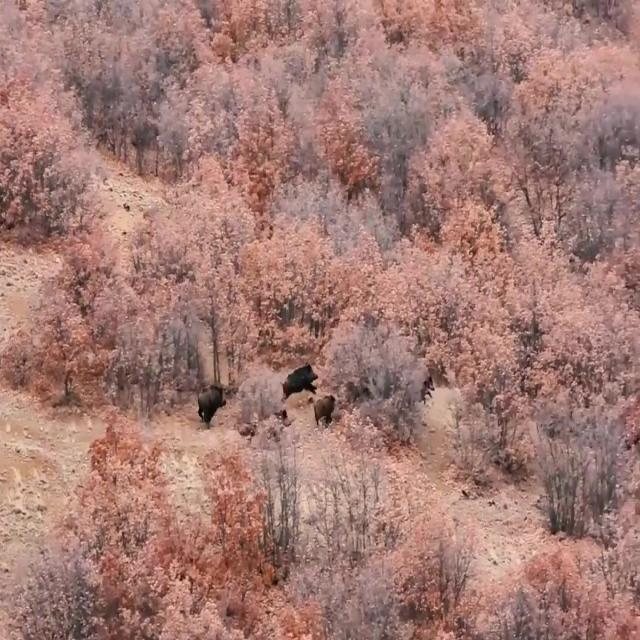pig: (280, 350, 318, 400), (187, 381, 227, 425), (301, 393, 336, 433)
